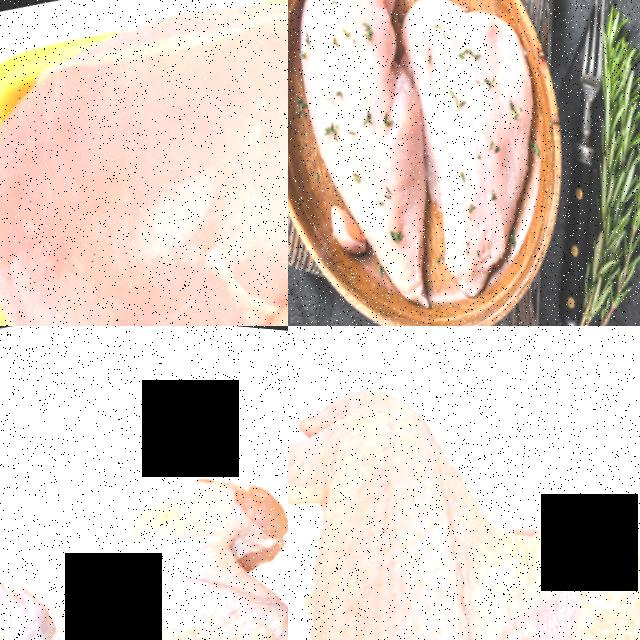chicken breast: (0, 0, 288, 326), (371, 0, 587, 294), (288, 0, 477, 316), (65, 185, 288, 326)
chicken wing: (288, 326, 640, 640), (40, 431, 288, 640), (0, 469, 138, 640)
